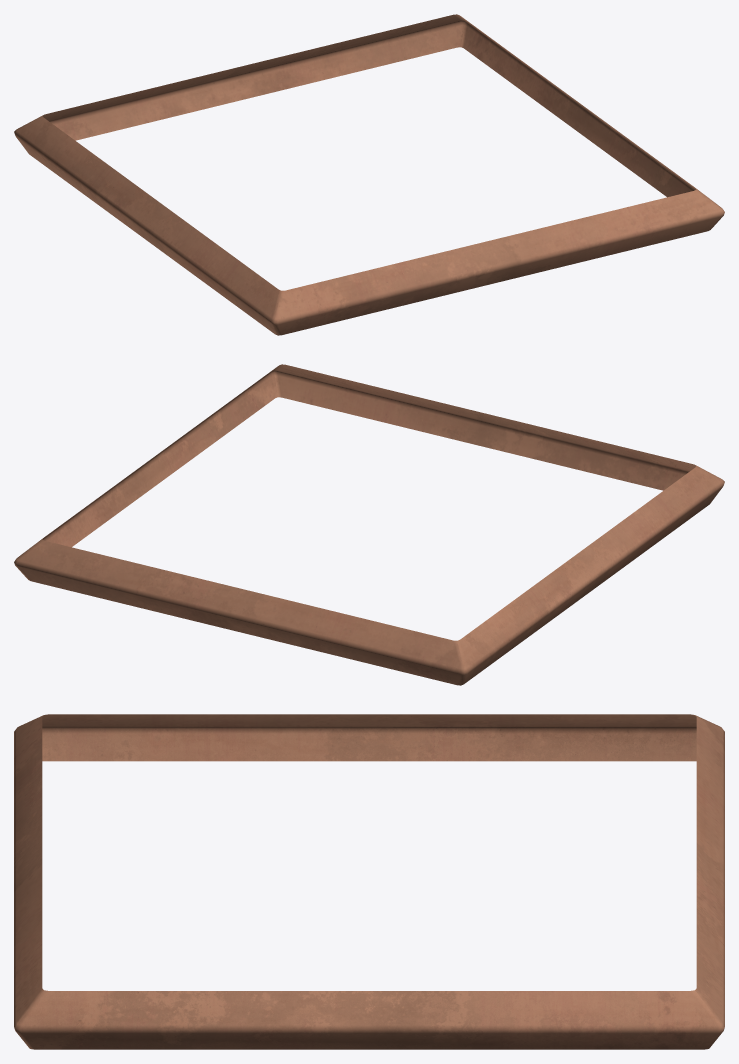
The model's file is templepart3.fbx.
The picture shows the model from 3 angles, top to bottom: view 1: azimuth 30°, elevation 25°; view 2: azimuth 150°, elevation 25°; view 3: azimuth 270°, elevation 25°; orthographic projection. The views are drawn at different scales.
Visible parts, largest first — view 1: Object015; view 2: Object015; view 3: Object015.
Boxes of the visible parts, x1,y1,x2,y2 form: Object015: (14, 14, 724, 335); Object015: (14, 364, 724, 685); Object015: (14, 714, 724, 1049).
Size of the model in its own units: 5150 by 5150 by 422.
